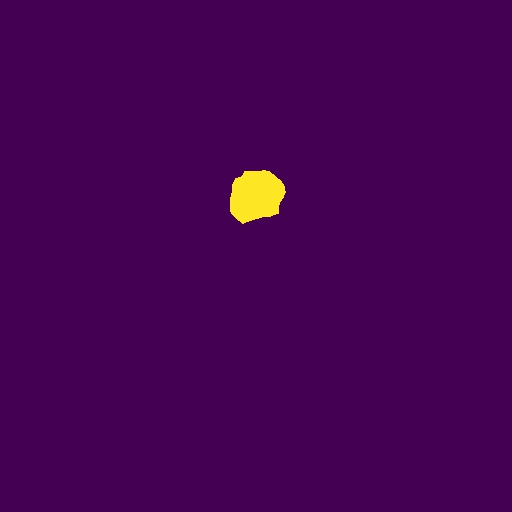Pituirity_tumour: (230, 170, 286, 224)
